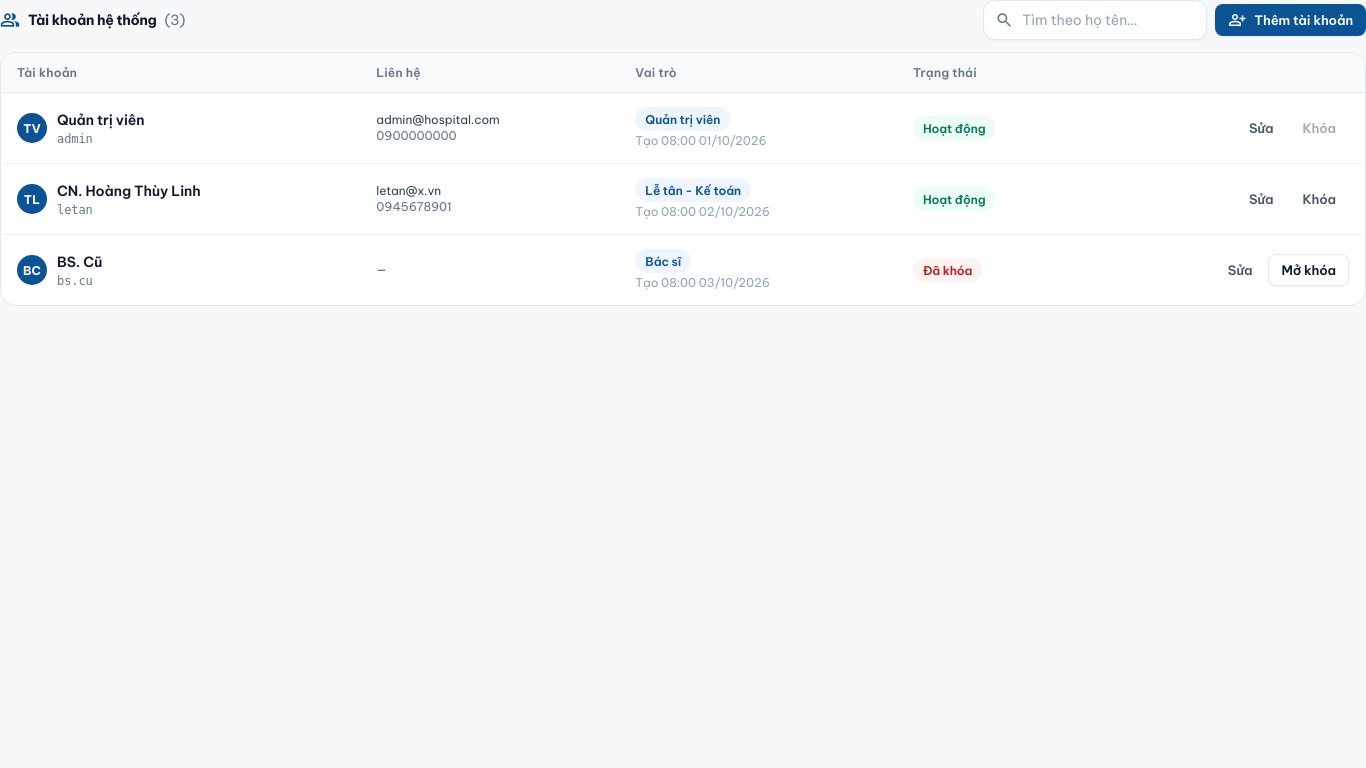
it: Quản lý tài khoản (Quản trị viên) › lỗi từ máy chủ (trùng tên đăng nhập) hiện đúng thông báo và không đóng form
This screenshot has width=1366, height=768.
Check: the text "CN. Hoàng Thùy Linh" is shown, box [57,180,201,202]
Click the button "Thêm tài khoản" at (1291, 20), box [1215,4,1365,36]
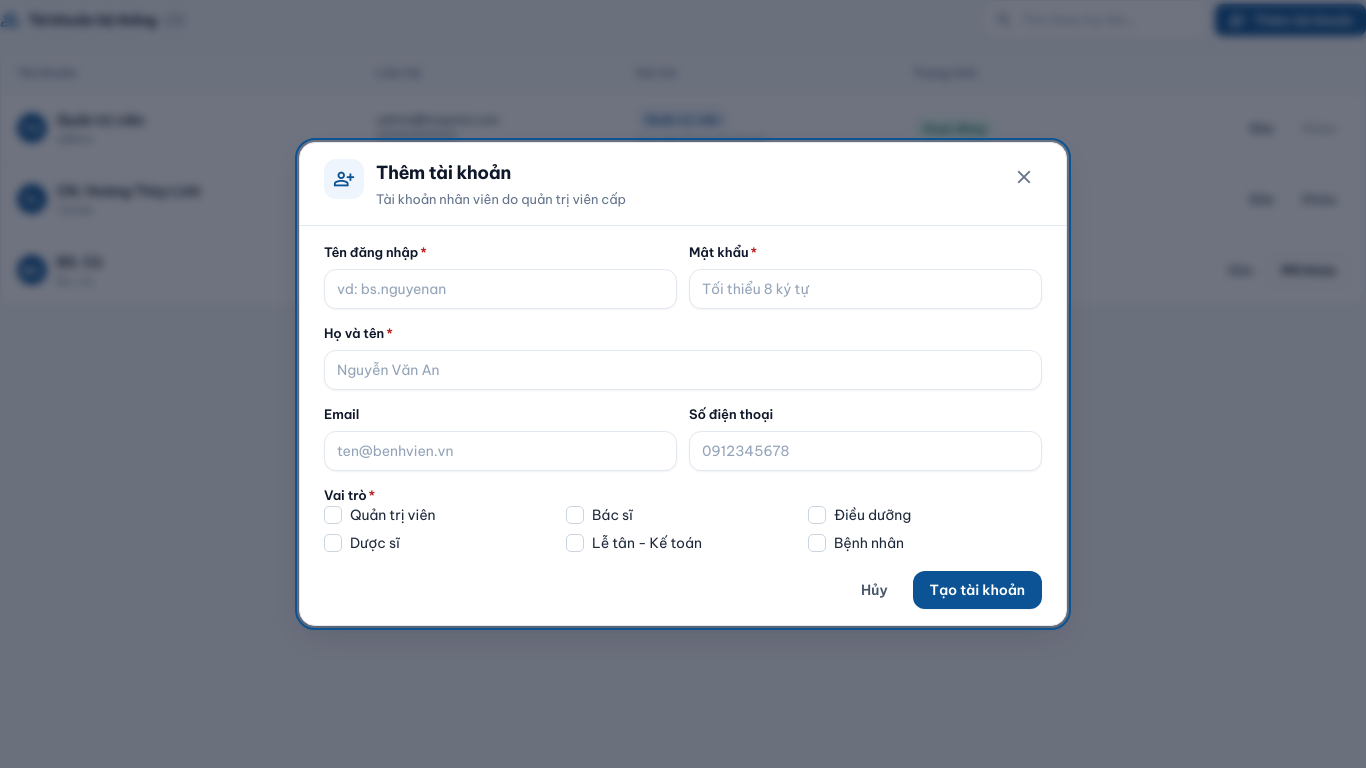
Type "letan" into the field labelled "Tên đăng nhập*" at (500, 289), box [324,269,677,309]
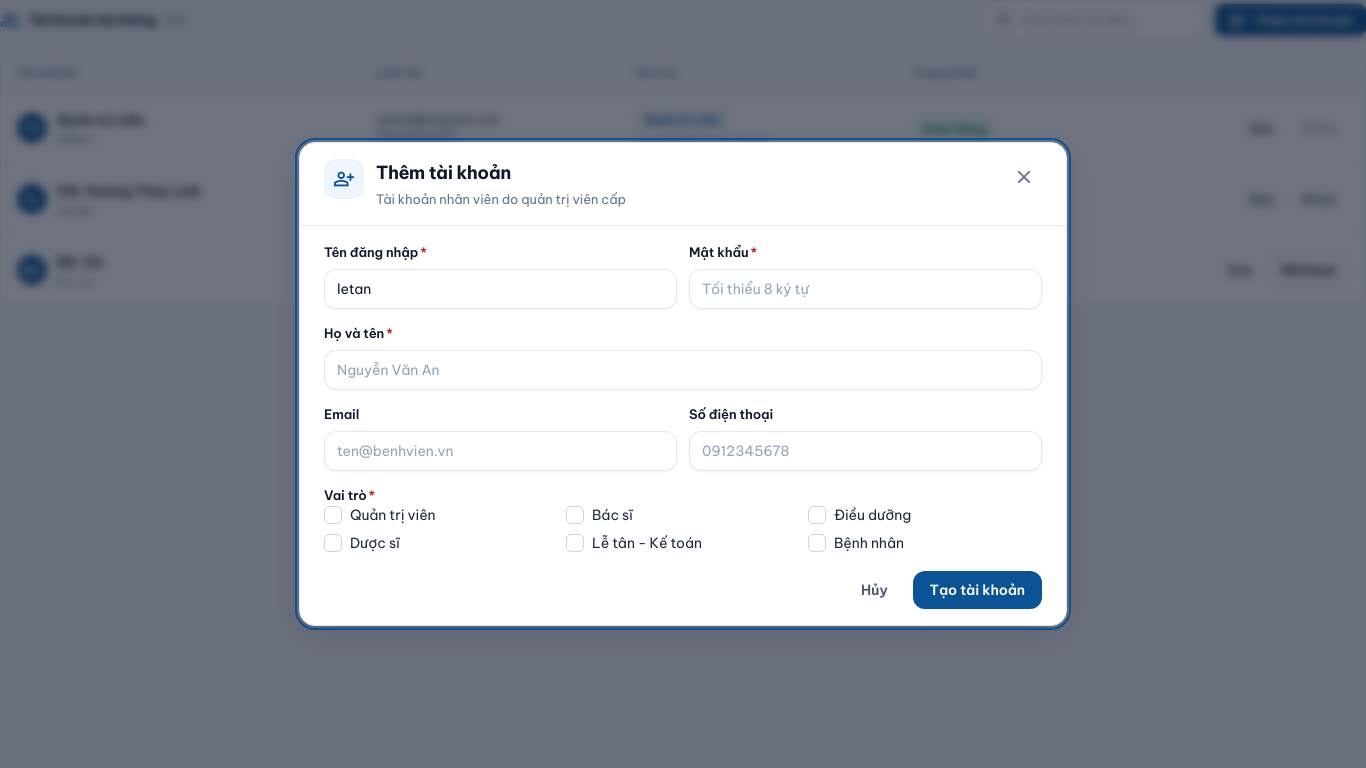
Type "Receptionist@123" into the password field labelled "Mật khẩu*" at (866, 289), box [689,269,1042,309]
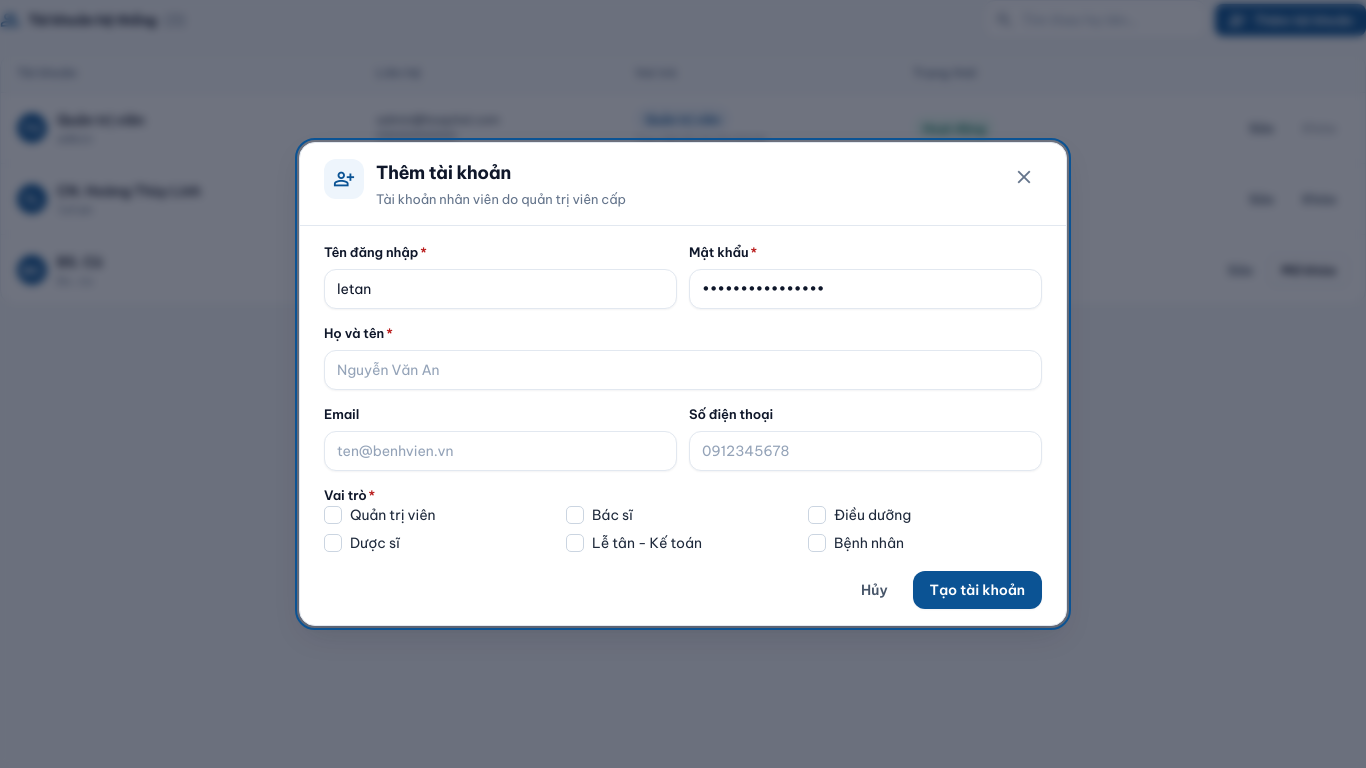
Type "Trùng" into the field labelled "Họ và tên*" at (683, 370), box [324,350,1042,390]
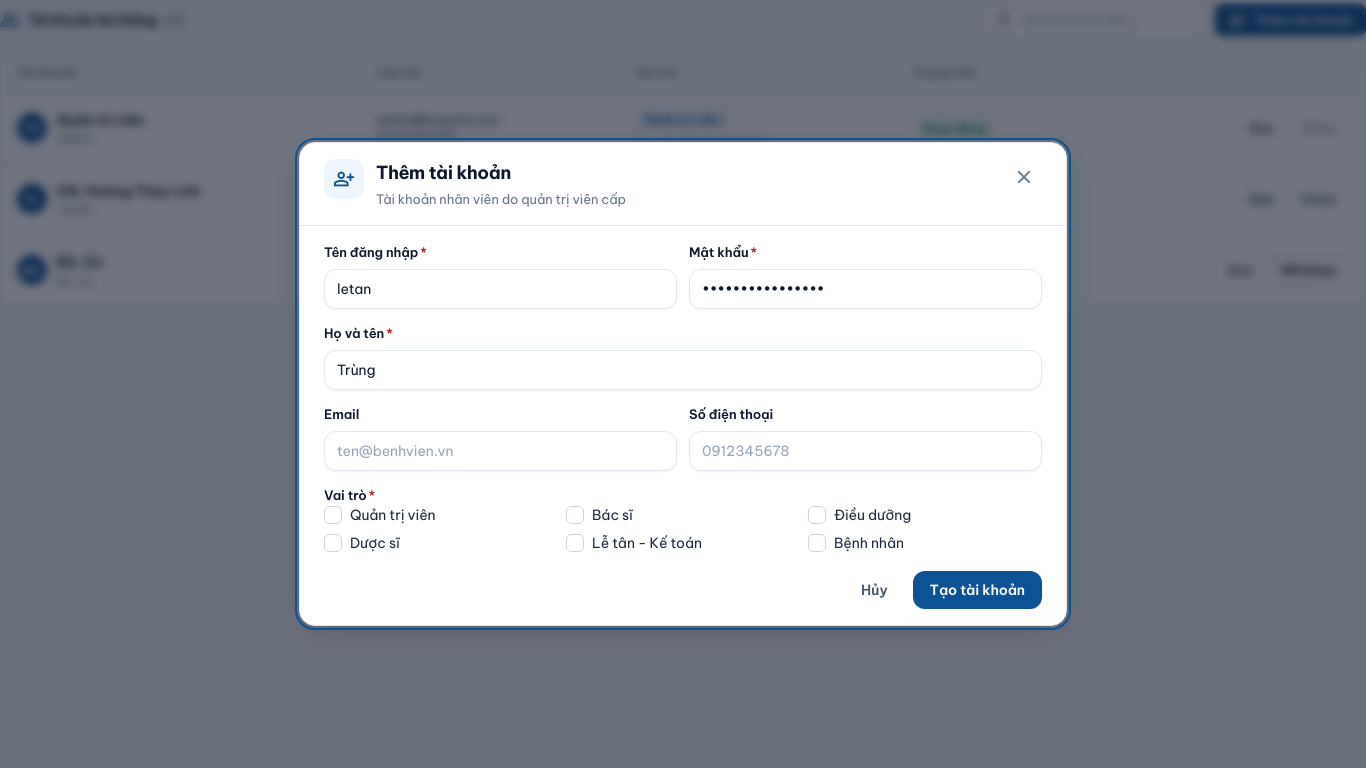
Click the checkbox labelled "Lễ tân - Kế toán" at (575, 544), box [566,534,584,552]
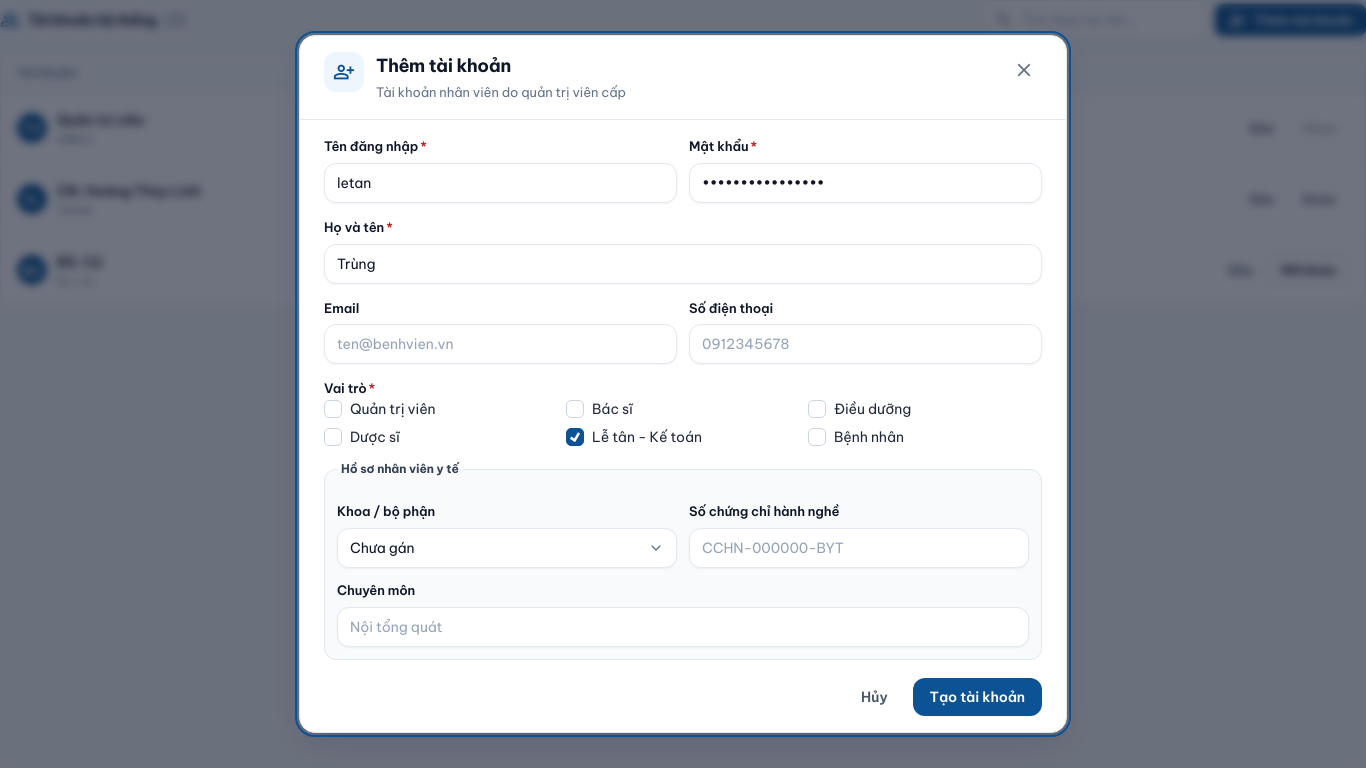
Click the button "Tạo tài khoản" at (977, 697), box [913,678,1042,716]
(page scrolled)
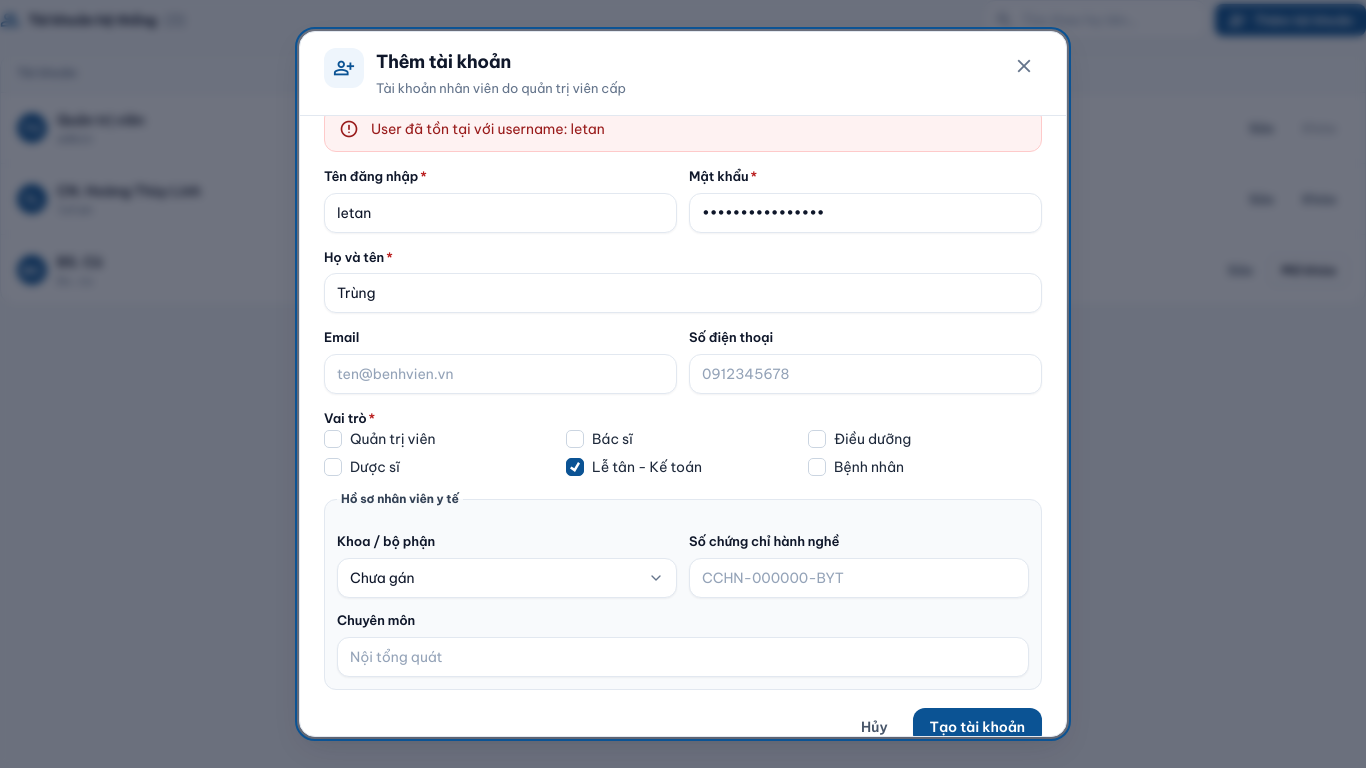
Check: the form named "Thêm tài khoản" is shown, box [324,116,1042,736]
Check: the message shows "User đã tồn tại", box [371,120,605,138]
